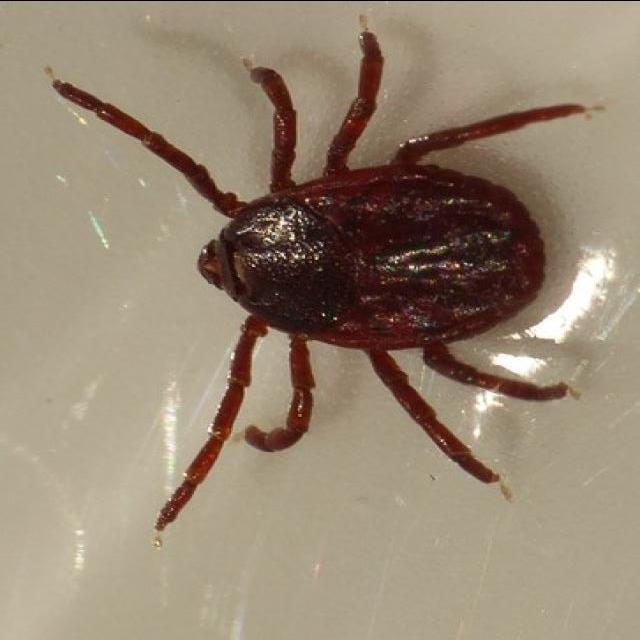Rhipicephalus Sanguineus-F: (55, 29, 591, 534)
